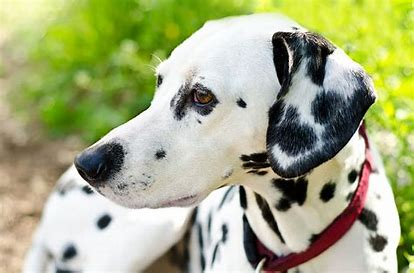dog: (47, 7, 385, 268)
